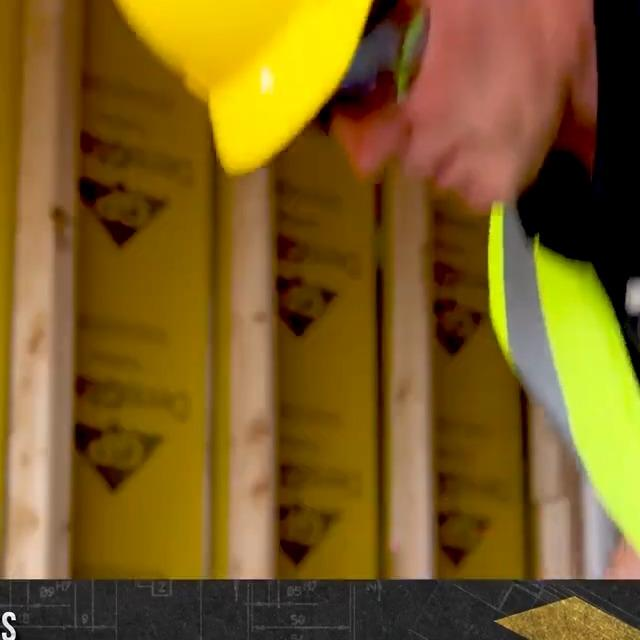Hardhat: (93, 0, 391, 176)
NO-Mask: (415, 30, 576, 211)
Person: (91, 0, 640, 582)
Safety Vest: (487, 0, 640, 584)
